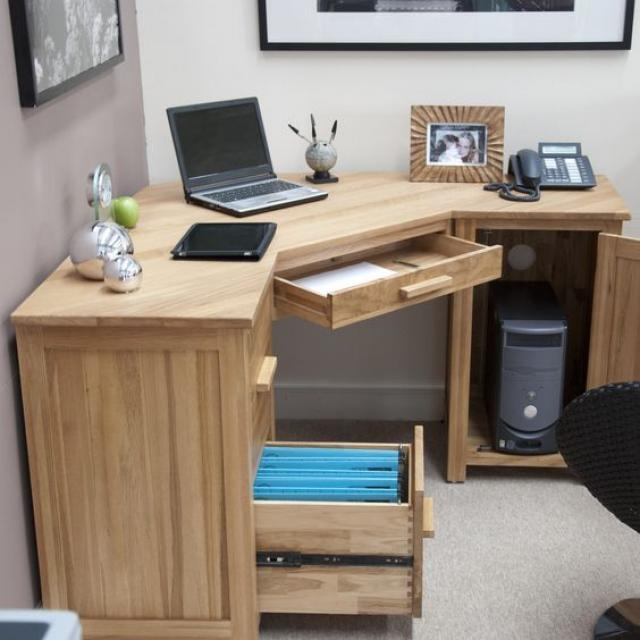Dish: (42, 148, 634, 615)
computer: (164, 107, 332, 218)
phone: (512, 128, 612, 198)
